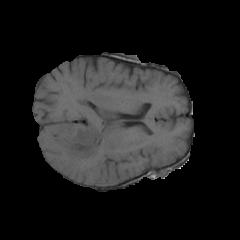glioma: (51, 120, 114, 162)
